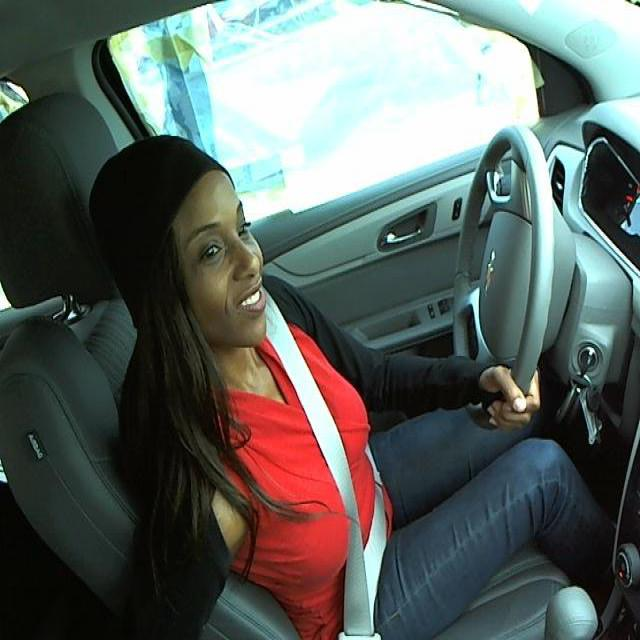seatbelt: (259, 317, 398, 616)
